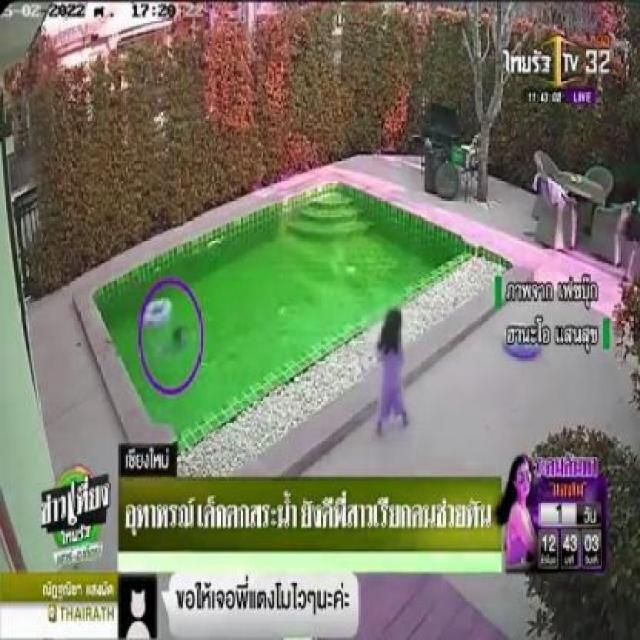drowning: (146, 328, 197, 364)
